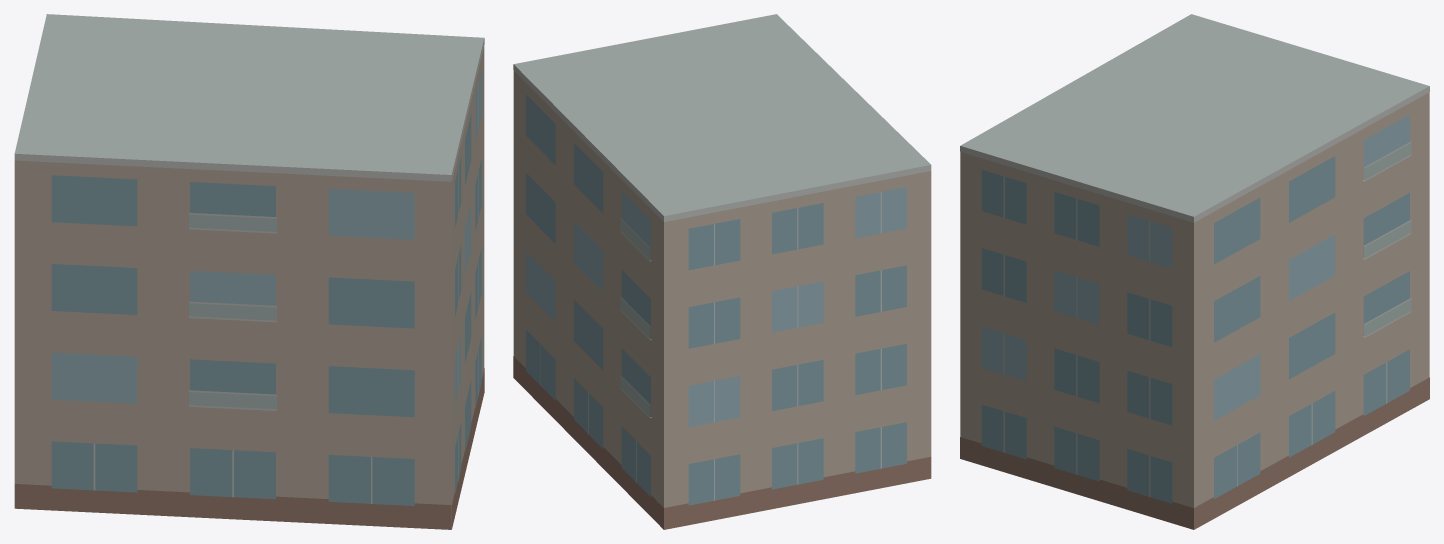
Rendered from survey-upis-32625901.glb.
The picture shows the model from 3 angles, left to right: view 1: azimuth 30°, elevation 25°; view 2: azimuth 150°, elevation 25°; view 3: azimuth 270°, elevation 25°; orthographic projection. The views are drawn at different scales.
Parts seen in each view (by area): view 1: survey-upis-32625901.tmp; view 2: survey-upis-32625901.tmp; view 3: survey-upis-32625901.tmp.
Part boxes in pixels (bbox=[...]): survey-upis-32625901.tmp: bbox=[14, 14, 484, 529]; survey-upis-32625901.tmp: bbox=[513, 14, 931, 529]; survey-upis-32625901.tmp: bbox=[960, 14, 1429, 529].
Size of the model in its own units: 17.8 by 12.8 by 17.41.
